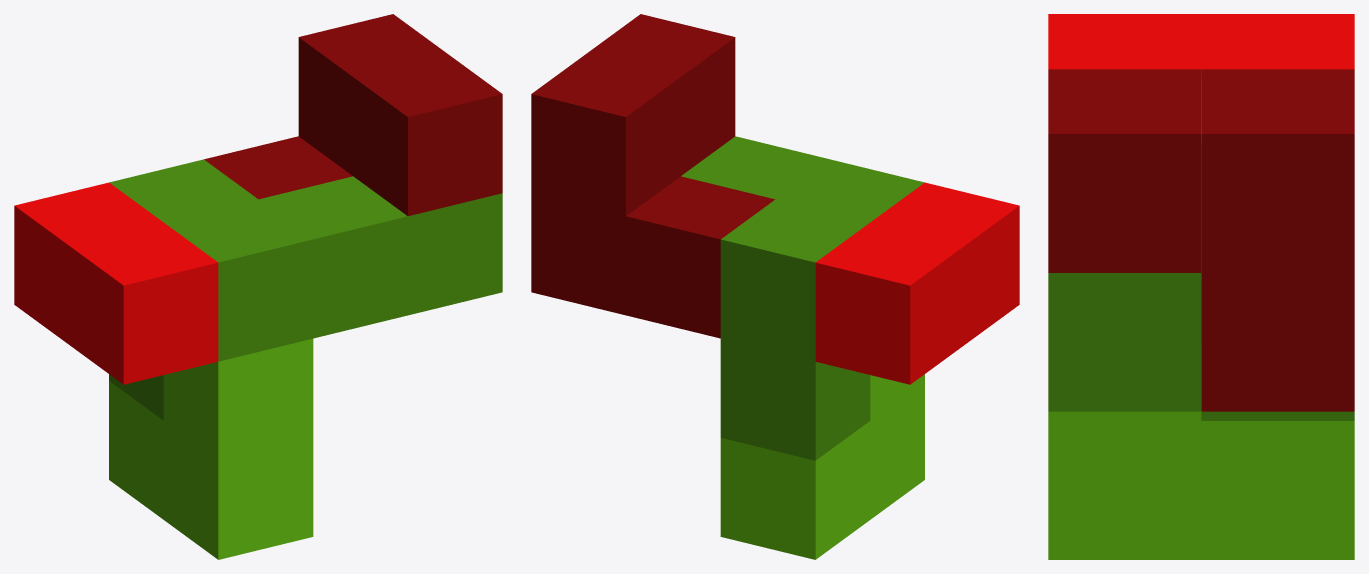
3 renders of one model, left to right at view 1: azimuth 30°, elevation 25°; view 2: azimuth 150°, elevation 25°; view 3: azimuth 270°, elevation 25°, orthographic. The views are drawn at different scales.
Parts seen in each view (by area): view 1: mergedBlocks(Clone); view 2: mergedBlocks(Clone); view 3: mergedBlocks(Clone).
Part boxes in pixels (<box>): mergedBlocks(Clone): <box>14,14,502,559</box>; mergedBlocks(Clone): <box>531,14,1019,559</box>; mergedBlocks(Clone): <box>1048,14,1354,559</box>.
Size of the model in its own units: 4 by 4 by 2.
4 materials, 4 textured.
